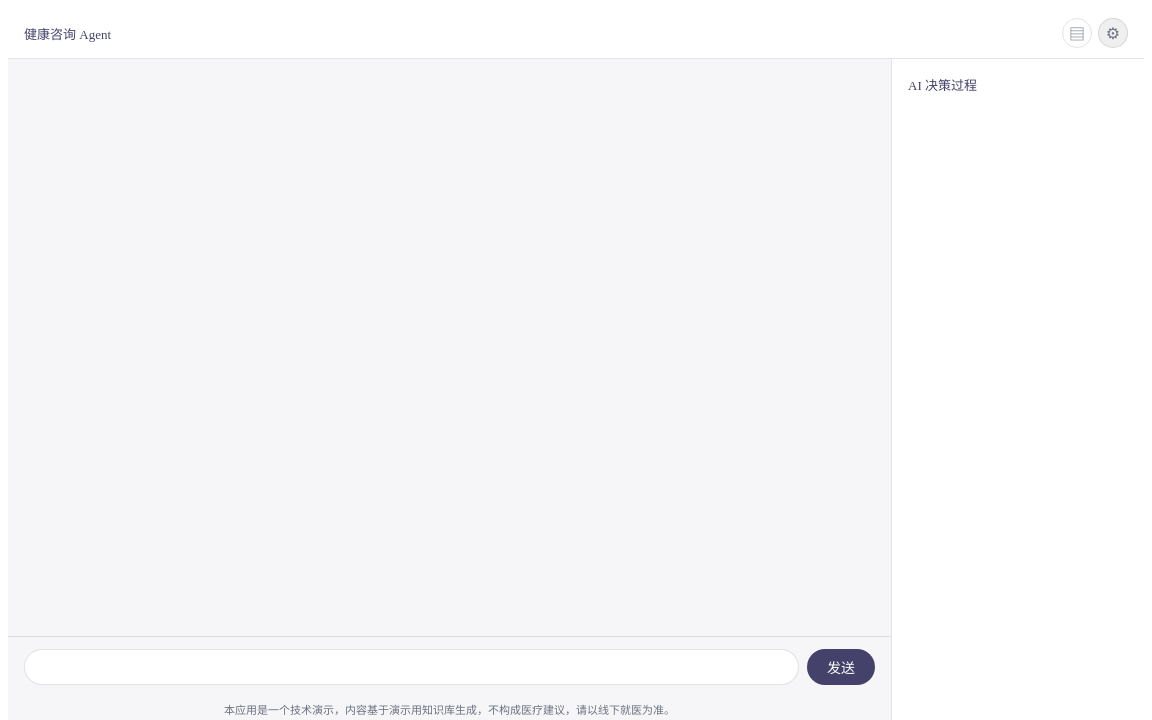
Test: starting a new consultation after a handoff clears the chat and issues a fresh session id
Type "我想自杀" into the field at (412, 667), box [24,649,799,685]
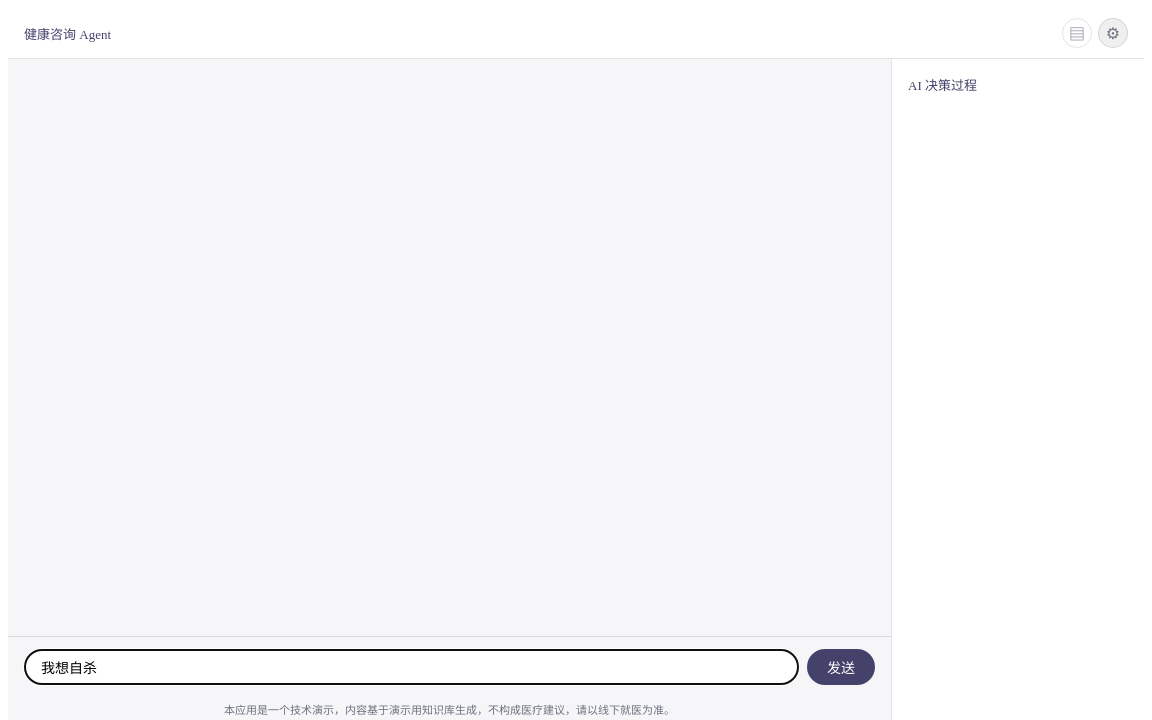
Click the button "发送" at (841, 667), box [807,649,875,685]
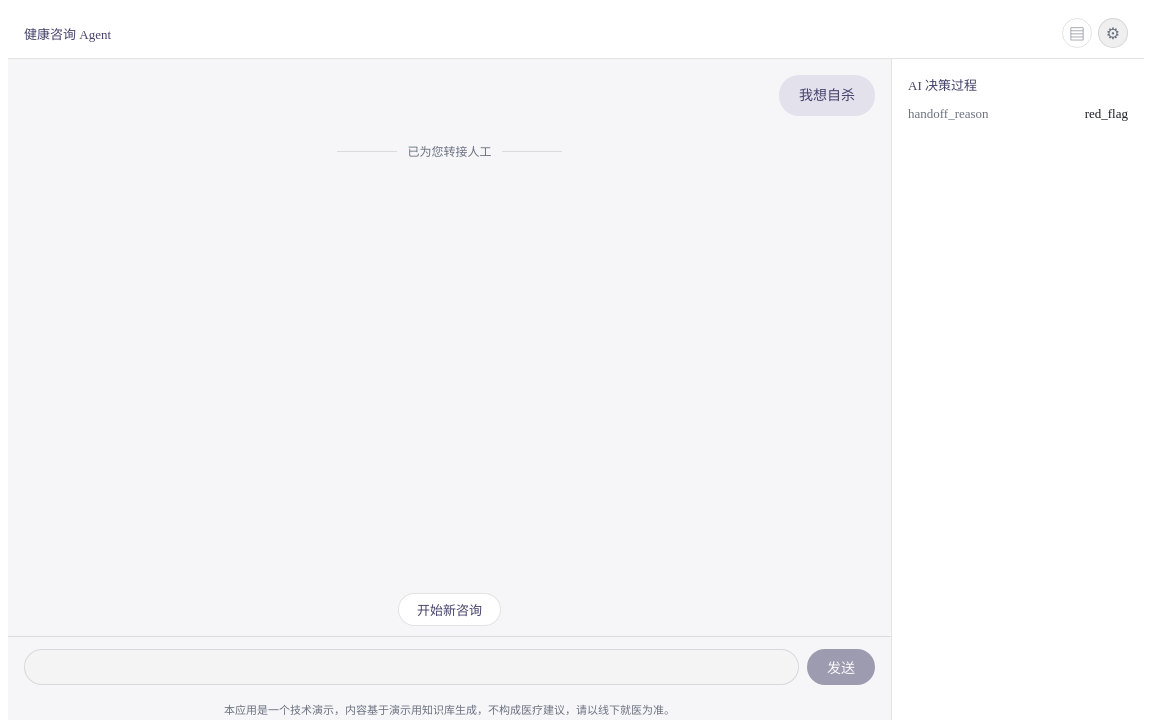
Expected: the element with test id "system-notice" is shown, [408,145,492,159]
Click the button "开始新咨询" at (450, 609), box [398,593,501,626]
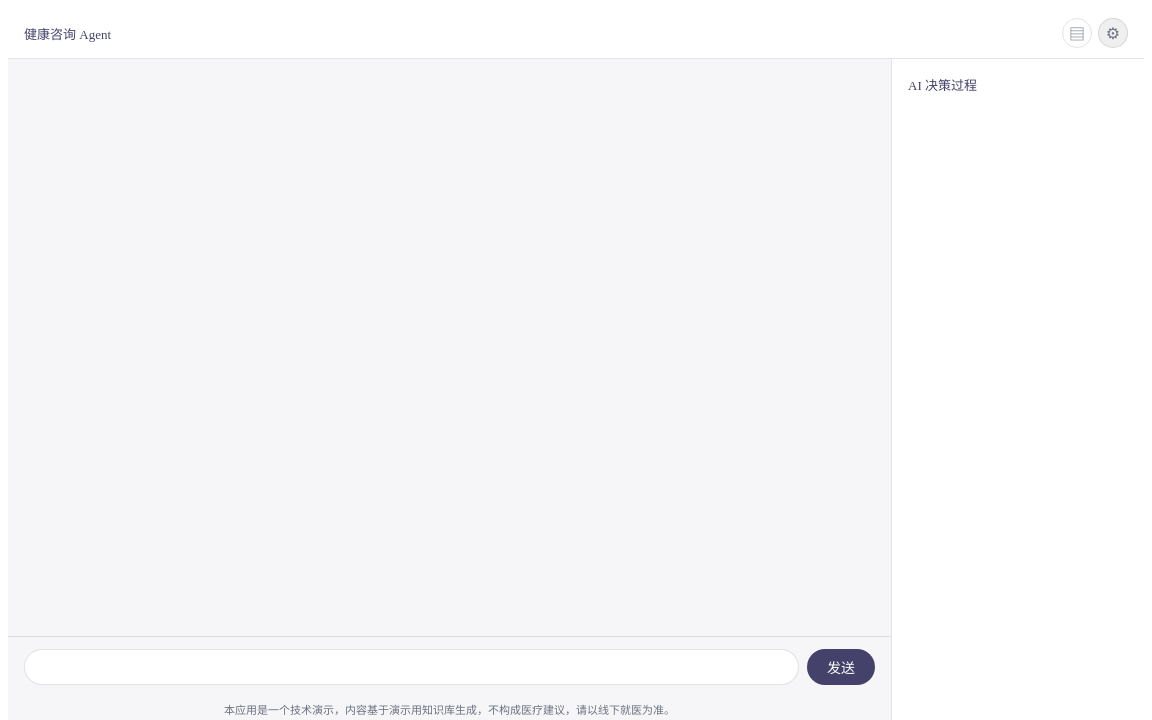
Expected: the element with test id "system-notice" is gone
Expected: the text "我想自杀" is gone
